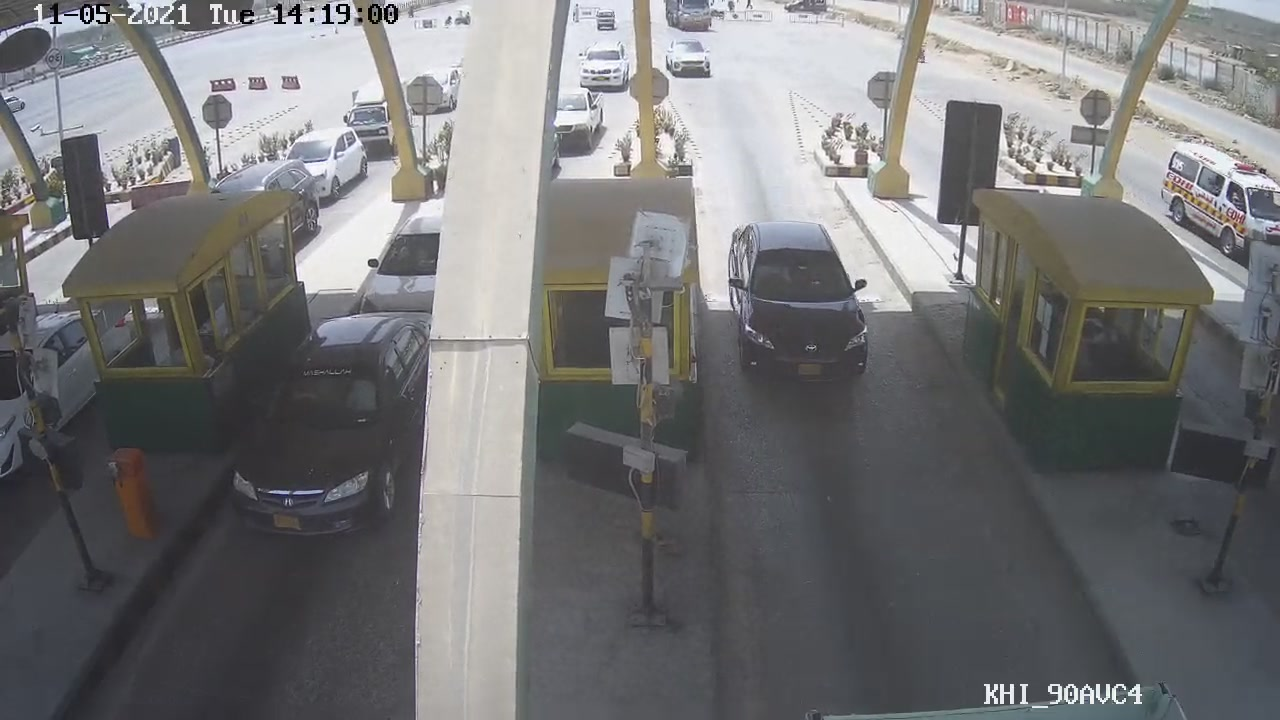F1: (724, 215, 872, 386)
